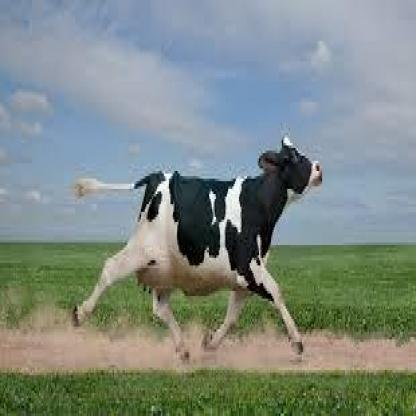cow: (71, 140, 324, 365)
